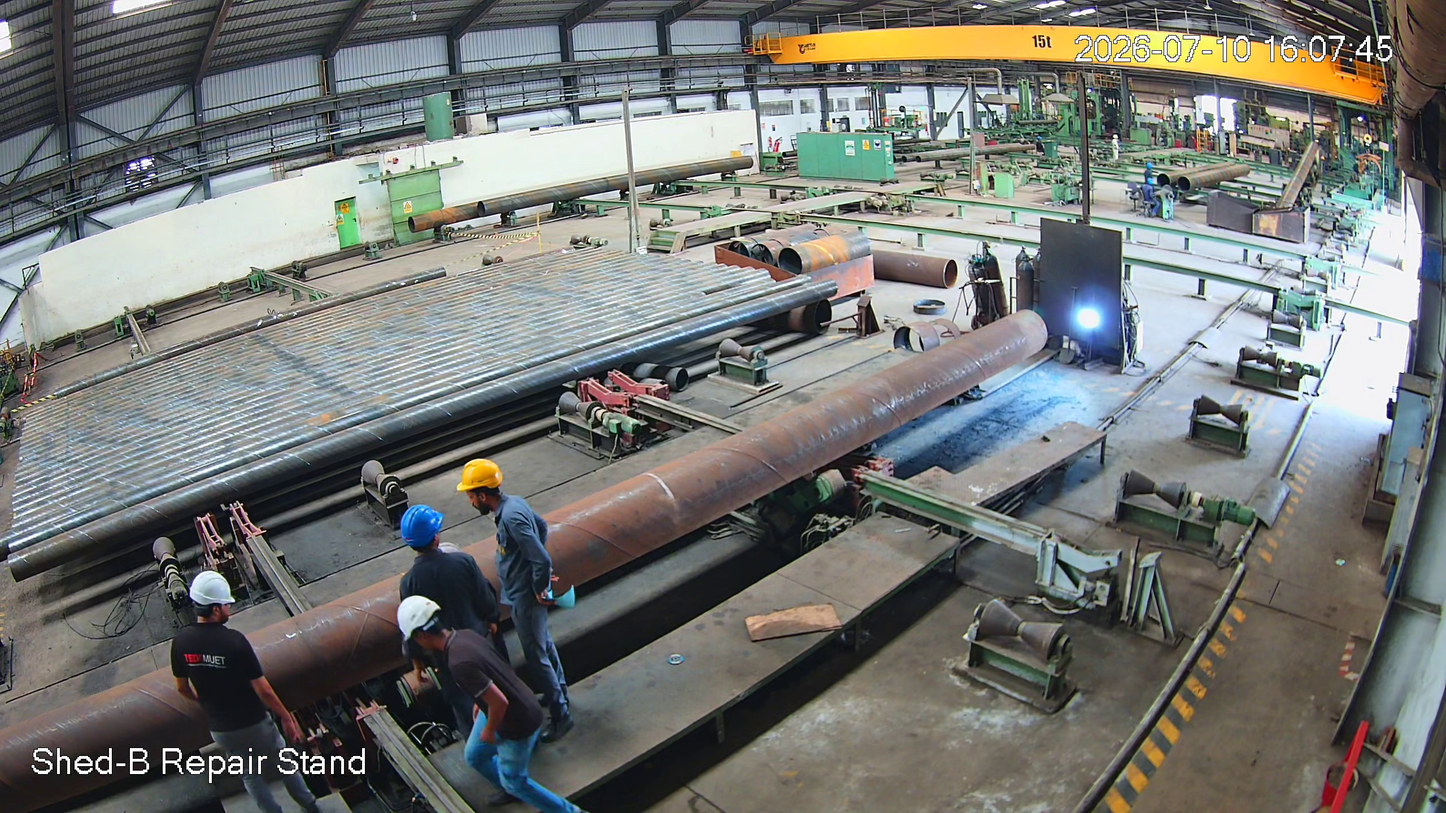Helmet: (182, 570, 256, 651), (445, 453, 520, 525), (388, 591, 456, 662), (393, 501, 451, 559)
Person: (155, 577, 325, 813), (458, 455, 598, 734), (395, 596, 562, 813), (400, 497, 492, 732)
